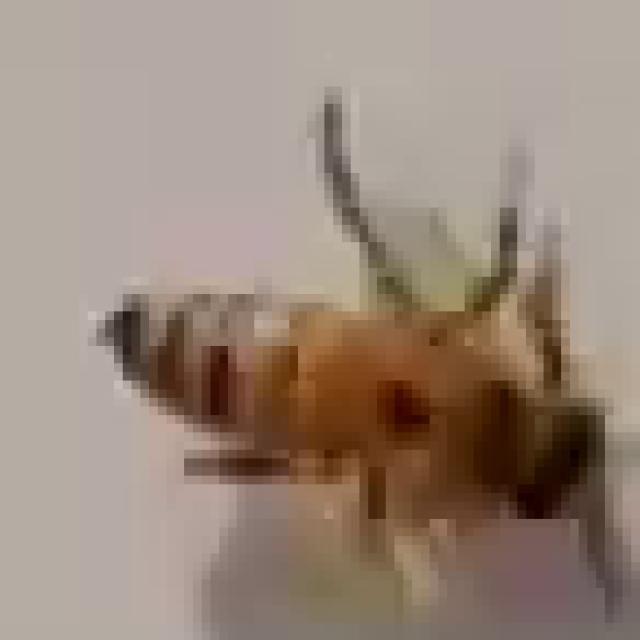honeybee: (84, 240, 625, 571)
